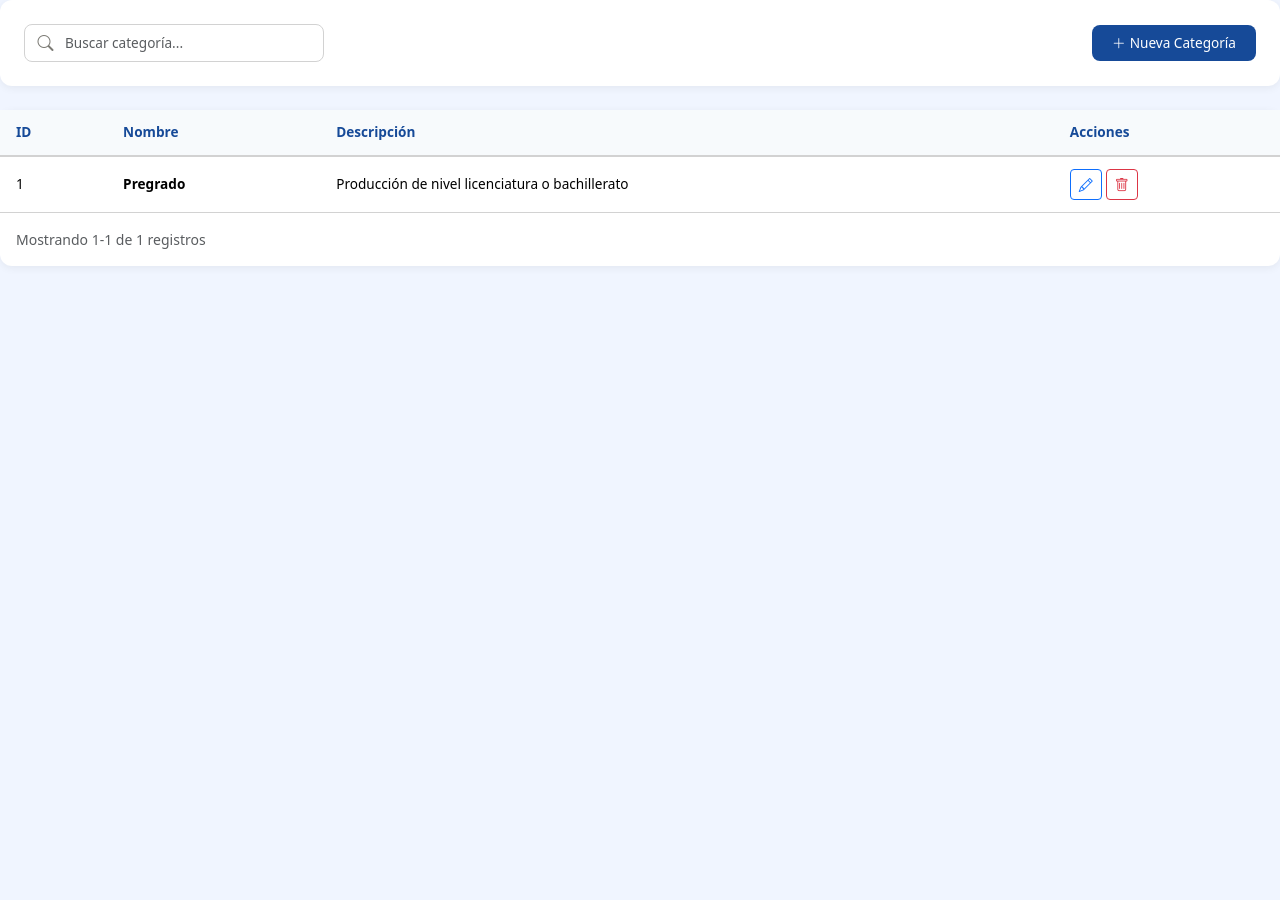
Test case: CatalogMaintenance › creates a new item through the add modal
expect the text "Pregrado" is shown: met, box [123,174,185,193]
Click the button "Nueva Categoría": (1174, 43) [1092,25,1256,61]
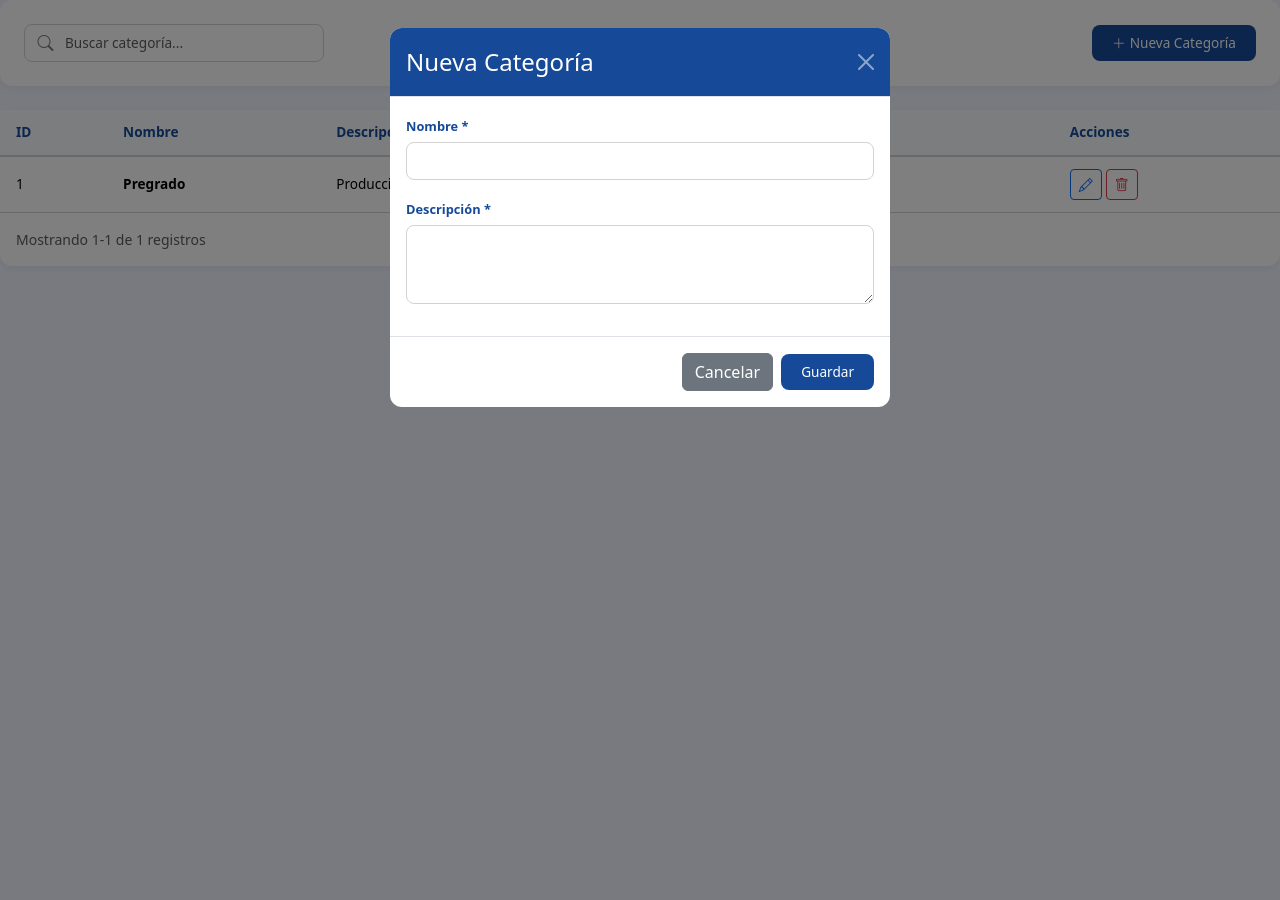
In the field labelled "Nombre *": (640, 161) [406,142,874,180], type "Categoría de prueba"
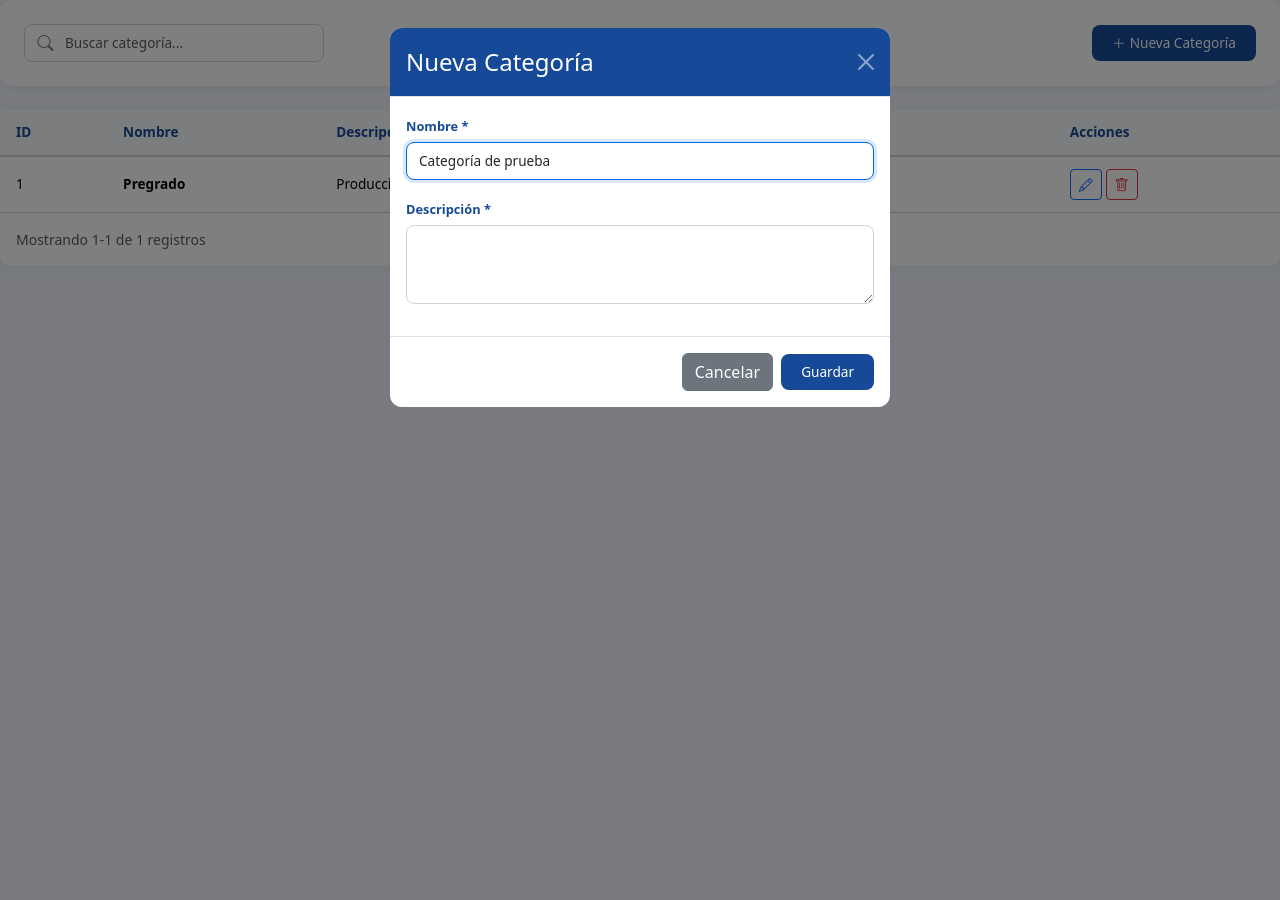
In the text box labelled "Descripción *": (640, 265) [406,225,874,304], type "Descripción de prueba"
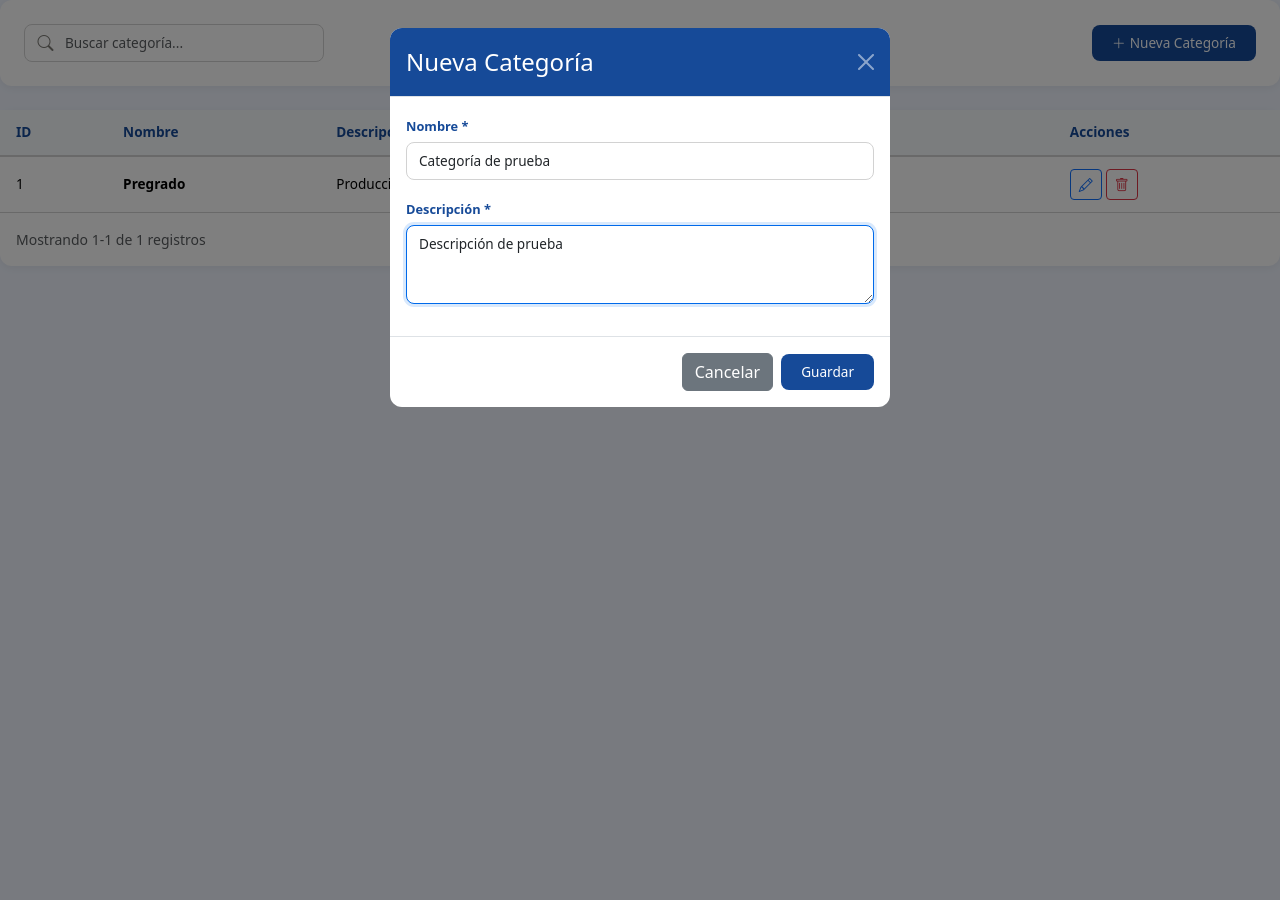
Click the button "Guardar": (828, 372) [781,354,874,390]
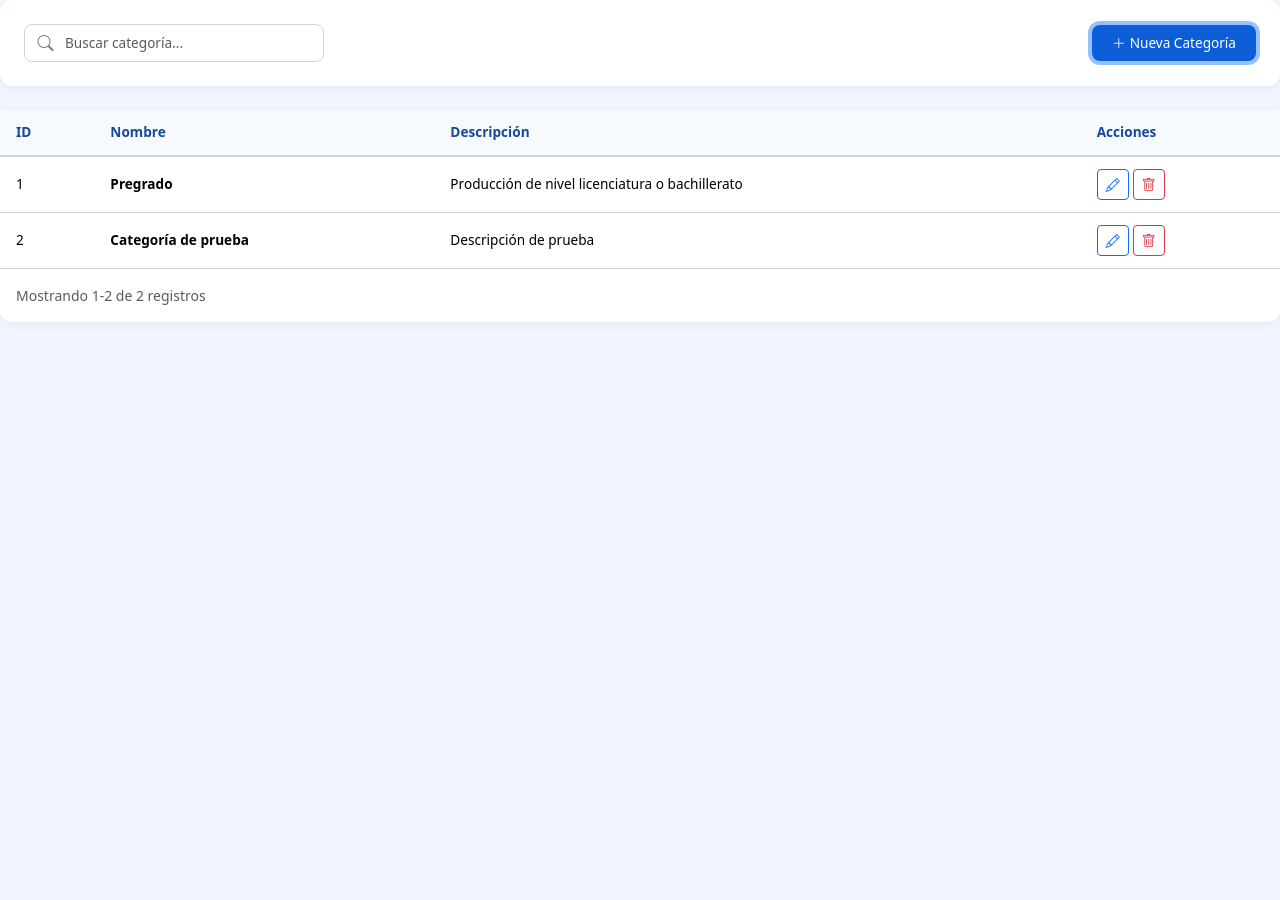
expect the text "Categoría de prueba" is shown: met, box [110,230,249,249]
